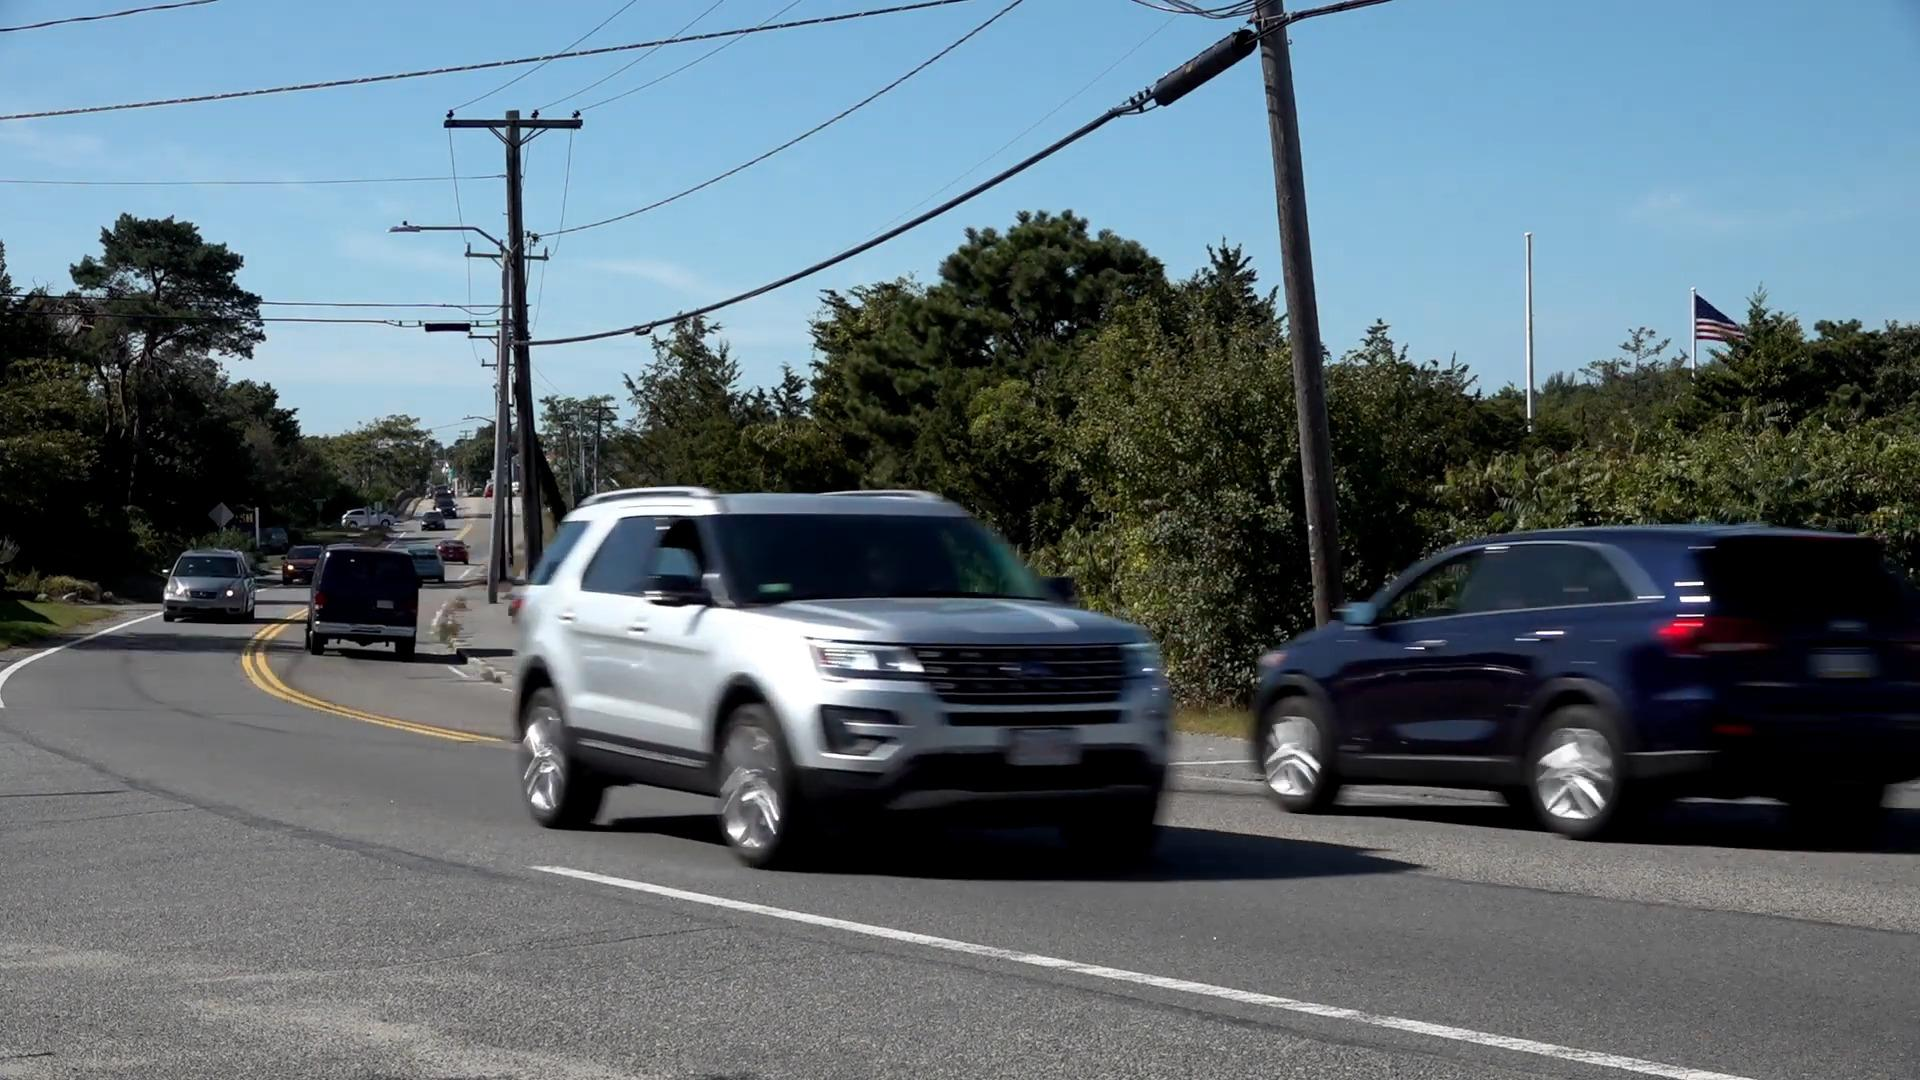minivan: (314, 549, 422, 658)
suv: (517, 485, 1172, 862), (1253, 527, 1920, 833), (166, 551, 258, 618)
